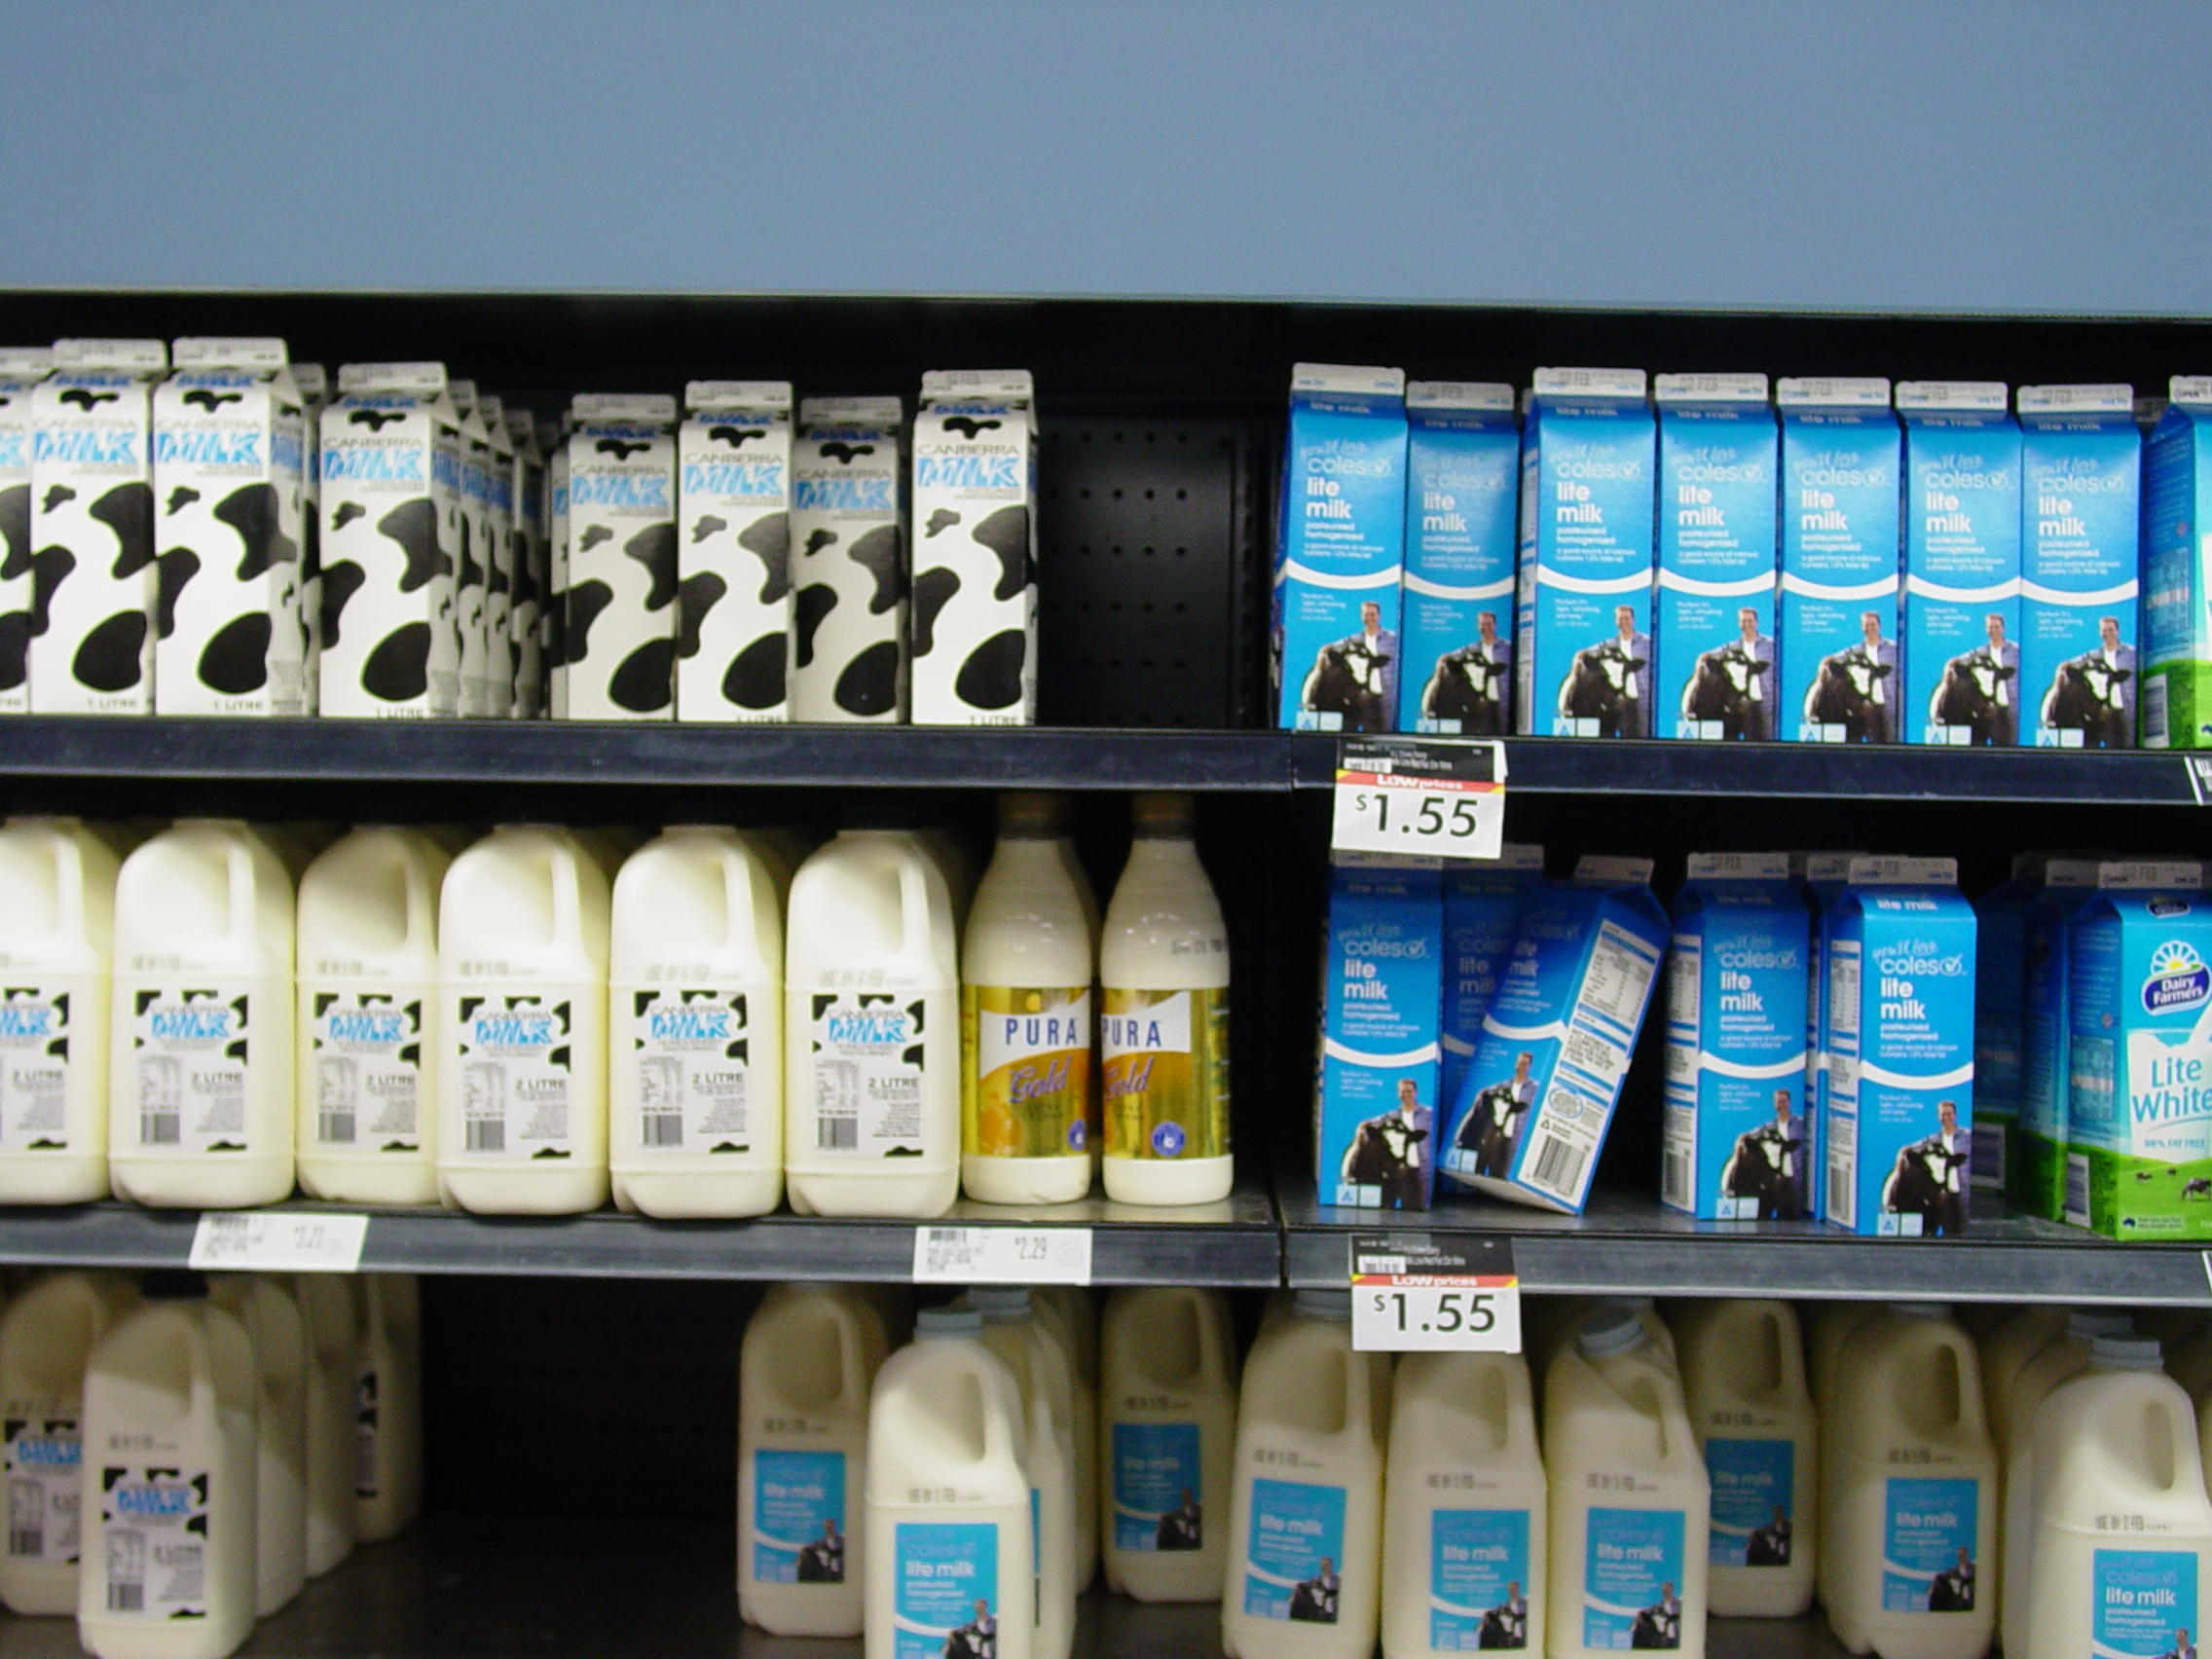Misplacement: (967, 793, 1264, 1222), (441, 335, 671, 721), (1430, 842, 1648, 1225)
Out-of-stock: (273, 1281, 716, 1654), (1036, 314, 1264, 723)
